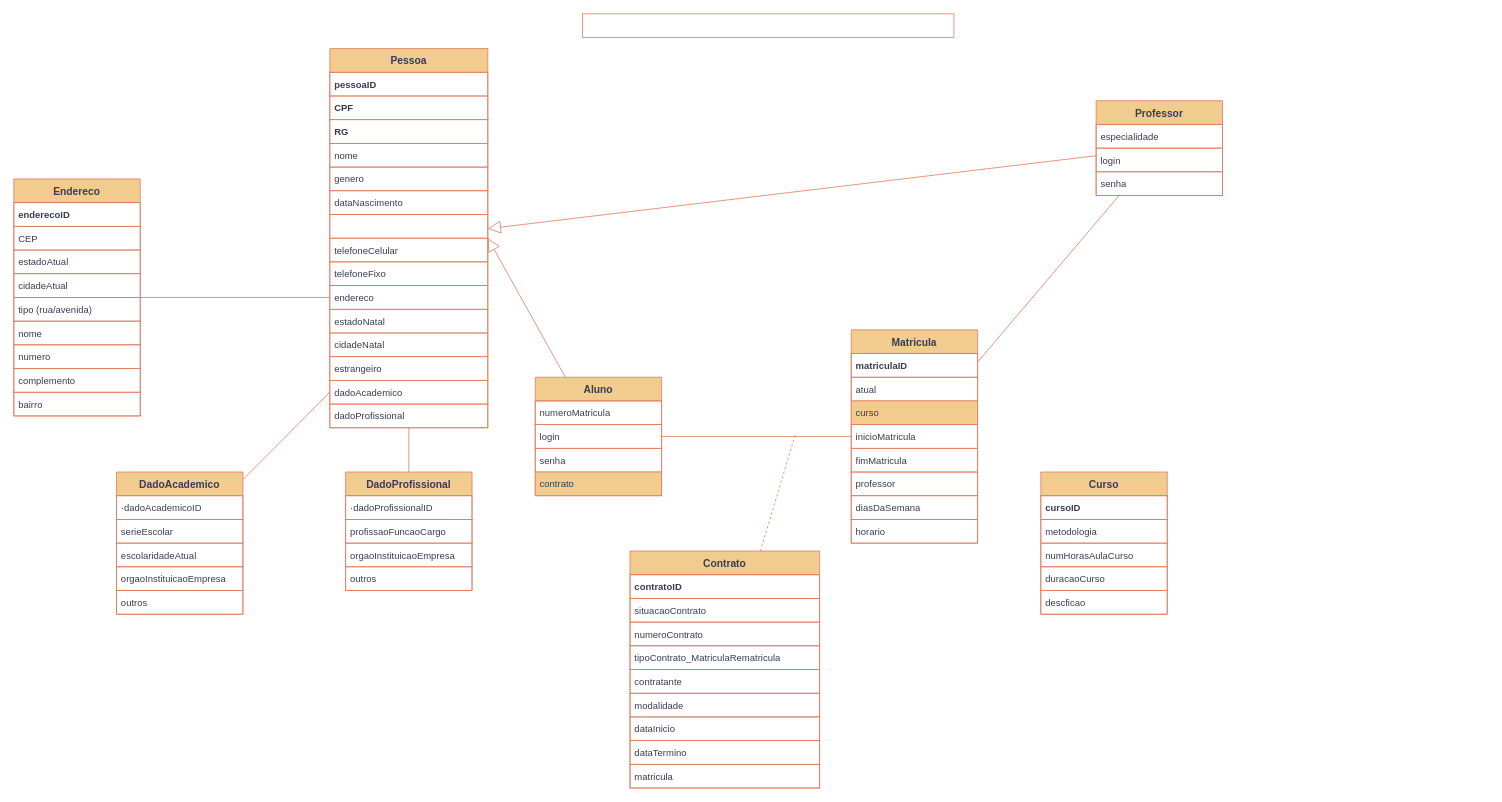
Image size: 1502x802. Some labels were removed from this diagram. Each missing label, with the centre of its shape:
"email" goes at pixel 408 226.
"ID_ClienteAluno = numero sequencial do cadastro + numero sequencial do contrato" goes at pixel 768 25.
